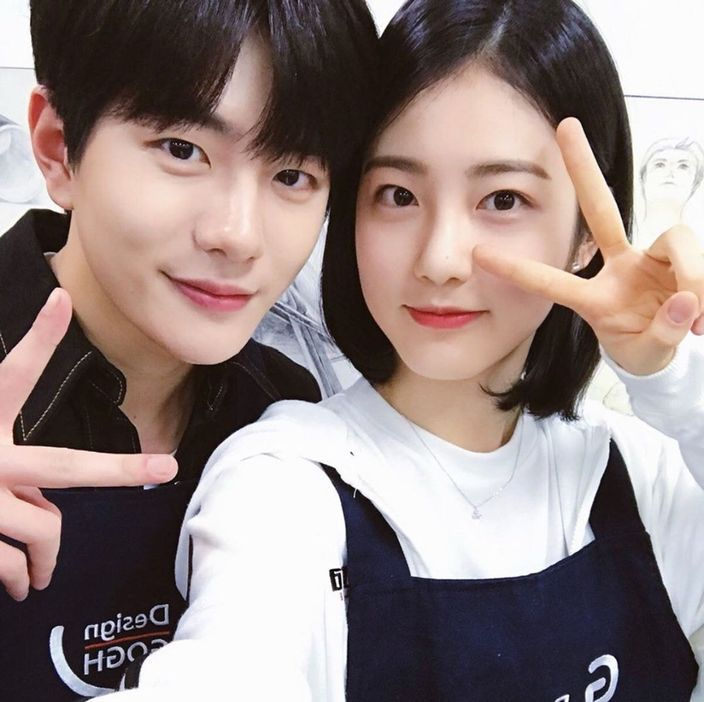people: (373, 1, 704, 702), (24, 1, 343, 702)
